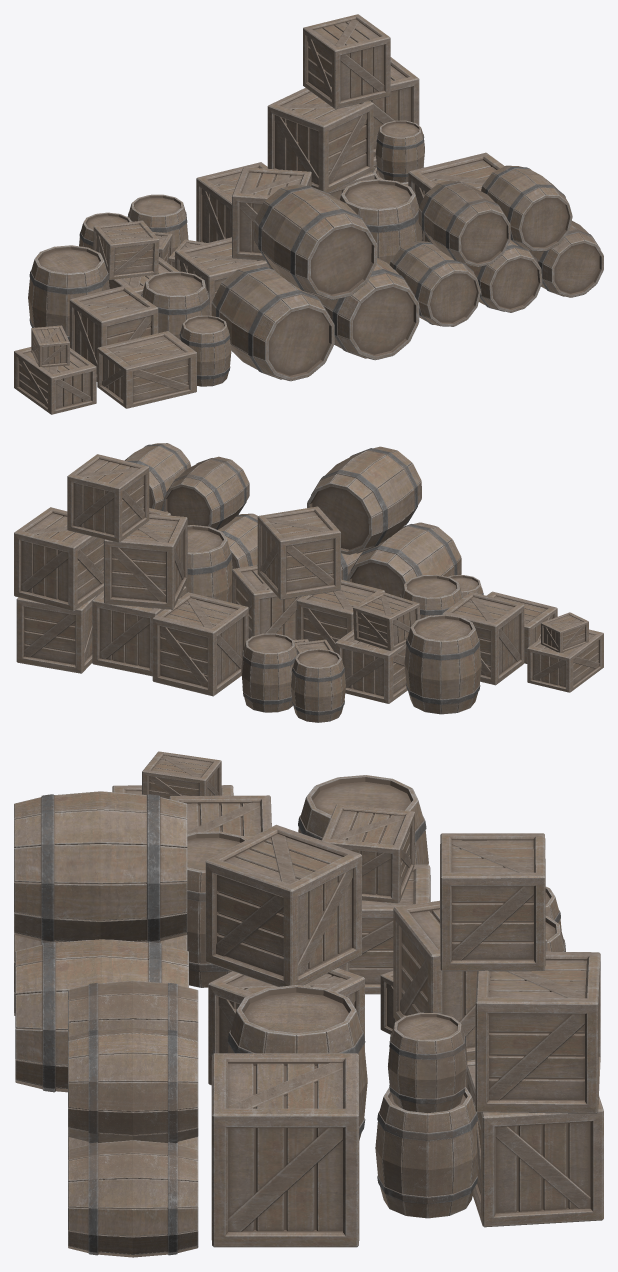
Rendered from Crates_And_Barrels_1A1.fbx.
3 views of the same model, one above another, from view 1: azimuth 30°, elevation 25°; view 2: azimuth 150°, elevation 25°; view 3: azimuth 270°, elevation 25° (orthographic). The views are drawn at different scales.
Parts seen in each view (by area): view 1: Barrel_Stack_1A1, Crate_And_Barrel_Stack_1A1, Barrel_Stack_1A2, Crate_And_Barrel_Stack_1A2, Crate_And_Barrel_Stack_1A3, Crate_Stack_1A1, Crate_Stack_1A2, Barrel_1A1, Crate_And_Barrel_Stack_1A4, Crate_1A1; view 2: Crate_And_Barrel_Stack_1A1, Barrel_Stack_1A1, Crate_And_Barrel_Stack_1A3, Crate_Stack_1A1, Barrel_Stack_1A2, Crate_And_Barrel_Stack_1A2, Crate_And_Barrel_Stack_1A4, Crate_Stack_1A2, Barrel_1A1; view 3: Crate_And_Barrel_Stack_1A1, Barrel_Stack_1A1, Barrel_Stack_1A2, Crate_1A1, Crate_Stack_1A1, Crate_And_Barrel_Stack_1A3, Barrel_1A1, Crate_And_Barrel_Stack_1A2, Crate_Stack_1A2, Crate_And_Barrel_Stack_1A4.
Boxes of the visible parts, bbox=[...] form: Barrel_Stack_1A1: bbox=[211, 184, 419, 381]; Crate_And_Barrel_Stack_1A1: bbox=[196, 14, 424, 242]; Barrel_Stack_1A2: bbox=[390, 165, 603, 326]; Crate_And_Barrel_Stack_1A2: bbox=[69, 271, 231, 408]; Crate_And_Barrel_Stack_1A3: bbox=[28, 220, 178, 341]; Crate_Stack_1A1: bbox=[175, 167, 311, 315]; Crate_Stack_1A2: bbox=[14, 325, 96, 414]; Barrel_1A1: bbox=[340, 179, 422, 264]; Crate_And_Barrel_Stack_1A4: bbox=[79, 194, 206, 267]; Crate_1A1: bbox=[408, 152, 504, 242]; Crate_And_Barrel_Stack_1A1: bbox=[14, 454, 248, 696]; Barrel_Stack_1A1: bbox=[307, 446, 461, 596]; Crate_And_Barrel_Stack_1A3: bbox=[335, 592, 481, 714]; Crate_Stack_1A1: bbox=[232, 506, 384, 652]; Barrel_Stack_1A2: bbox=[124, 443, 257, 568]; Crate_And_Barrel_Stack_1A2: bbox=[400, 574, 557, 685]; Crate_And_Barrel_Stack_1A4: bbox=[241, 633, 345, 722]; Crate_Stack_1A2: bbox=[527, 612, 603, 692]; Barrel_1A1: bbox=[185, 525, 232, 602]; Crate_And_Barrel_Stack_1A1: bbox=[375, 833, 603, 1227]; Barrel_Stack_1A1: bbox=[14, 791, 188, 1092]; Barrel_Stack_1A2: bbox=[68, 980, 198, 1257]; Crate_1A1: bbox=[211, 1053, 359, 1247]; Crate_Stack_1A1: bbox=[205, 824, 364, 1085]; Crate_And_Barrel_Stack_1A3: bbox=[298, 775, 430, 994]; Barrel_1A1: bbox=[227, 985, 367, 1140]; Crate_And_Barrel_Stack_1A2: bbox=[169, 795, 271, 987]; Crate_Stack_1A2: bbox=[112, 751, 233, 798]; Crate_And_Barrel_Stack_1A4: bbox=[380, 886, 565, 1034].
Size of the model in its own units: 925 by 322 by 538.
